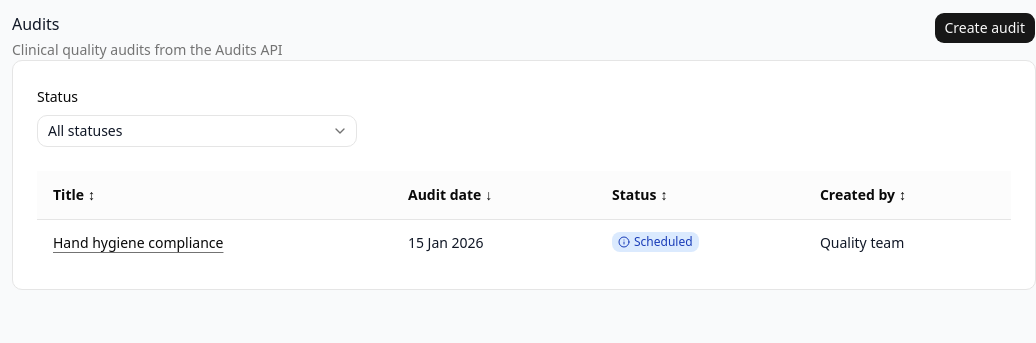
Test: AuditsView › keeps DataTable mounted and shows inline error alert when refetch rejects
The width and height of the screenshot is (1036, 343).
Expected: the element named "Audits list, scrollable" is shown, [37, 171, 1011, 265]
What coordinates should you click on to do the following:
click the dropdown labelled "status"
I would click on:
 (85, 130)
Its box is [37, 115, 357, 147].
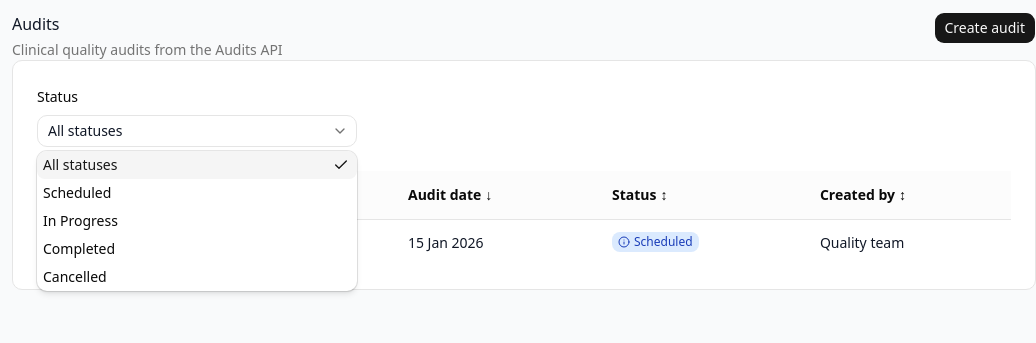
What coordinates should you click on to do the following:
click the option "Completed"
I would click on:
 (79, 248)
Its box is [43, 239, 115, 258].
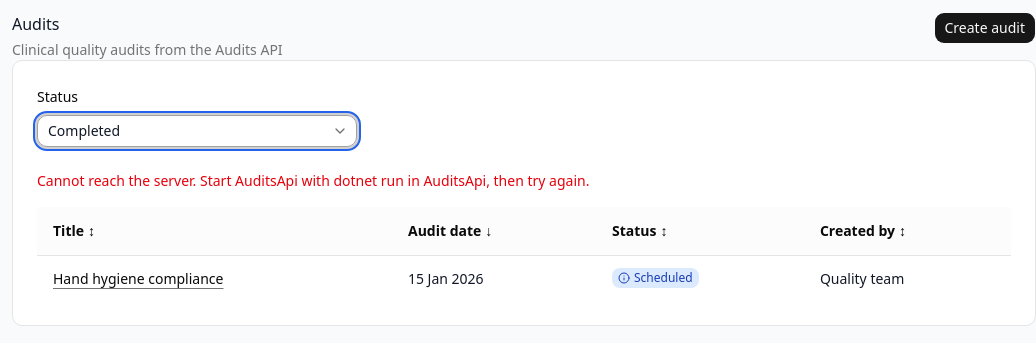
Expected: the element named "Audits list, scrollable" is shown, [37, 207, 1011, 301]
Expected: the message shows "Cannot reach the server. Start AuditsApi with dotnet run in AuditsApi, then try again.", [37, 171, 589, 190]
